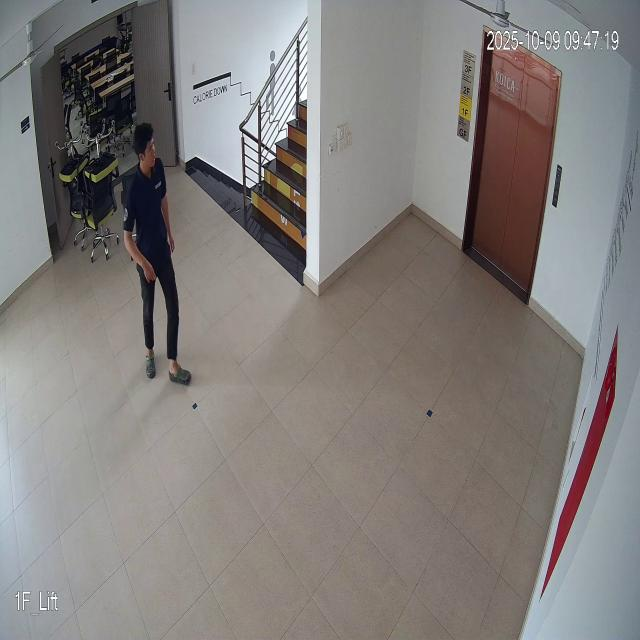face: (133, 111, 162, 182)
